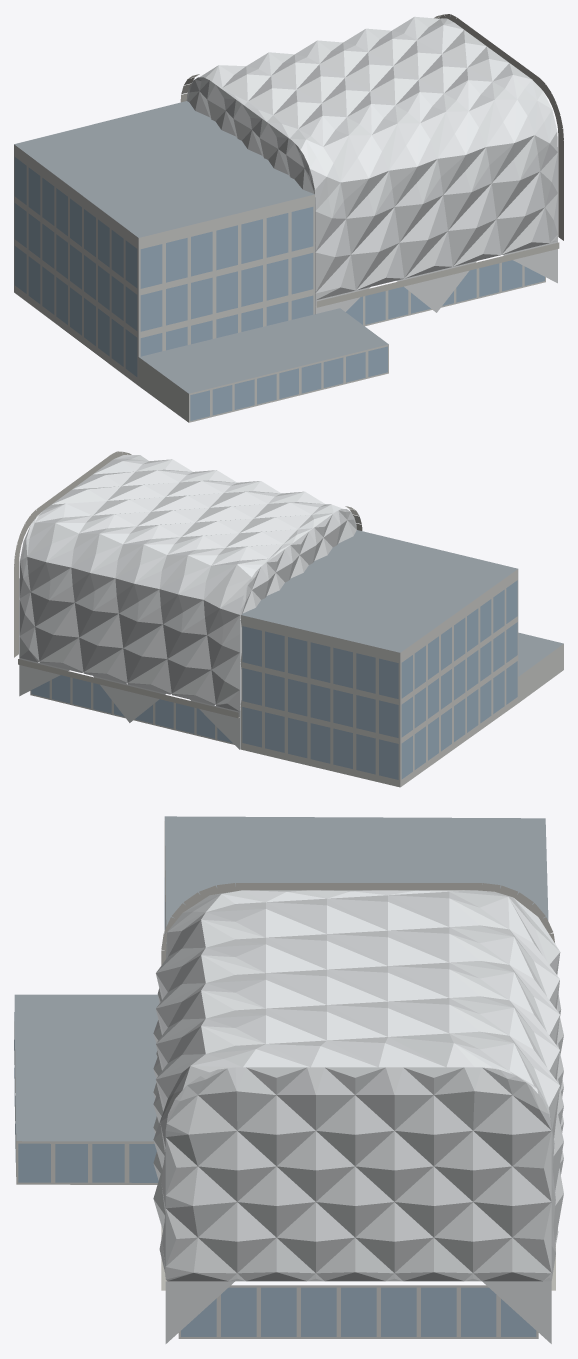
Rendered from nyc-the-shed.glb.
3 renders of one model, top to bottom at view 1: azimuth 30°, elevation 25°; view 2: azimuth 150°, elevation 25°; view 3: azimuth 270°, elevation 25°, orthographic. The views are drawn at different scales.
Parts seen in each view (by area): view 1: The Shed; view 2: The Shed; view 3: The Shed.
Boxes of the visible parts, x1,y1,x2,y2 form: The Shed: [14, 14, 563, 422]; The Shed: [14, 451, 563, 787]; The Shed: [14, 816, 563, 1343].
Size of the model in its own units: 84.16 by 36.4 by 62.96.
